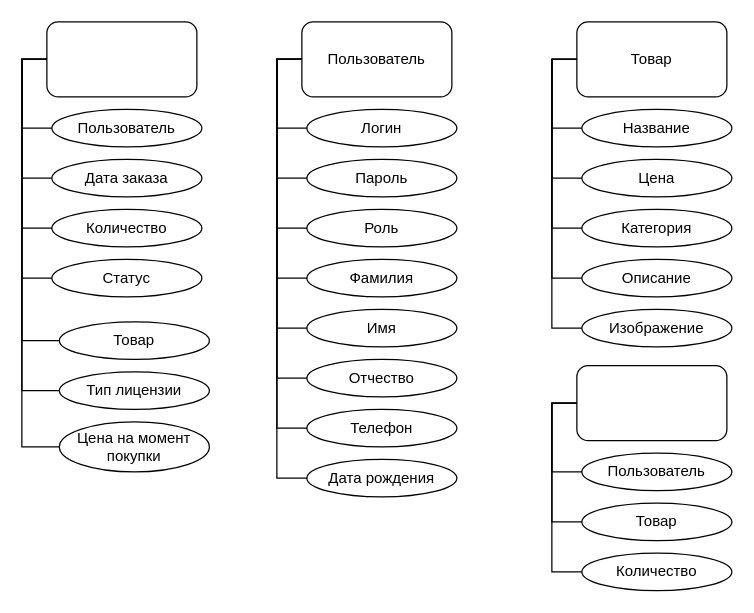
The diagram is 754 pixels wide and 613 high, and some of its shapes have lost their labels. Each missing label, with the centre of its shape:
"Заказ" belongs at pixel 121 59.
"Корзина" belongs at pixel 651 402.
